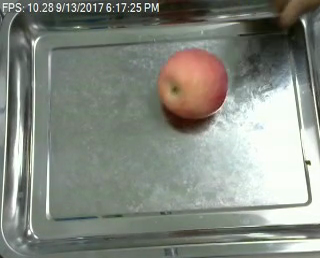Apple: (156, 48, 228, 119)
